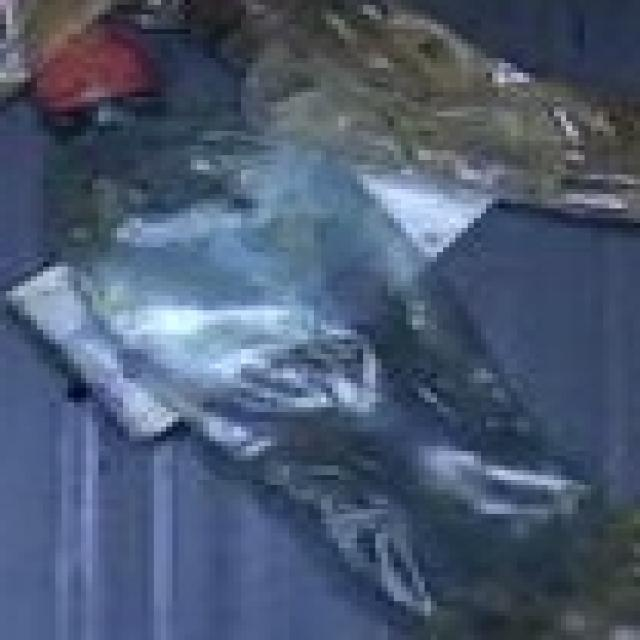plasticbottle: (34, 43, 632, 640)
